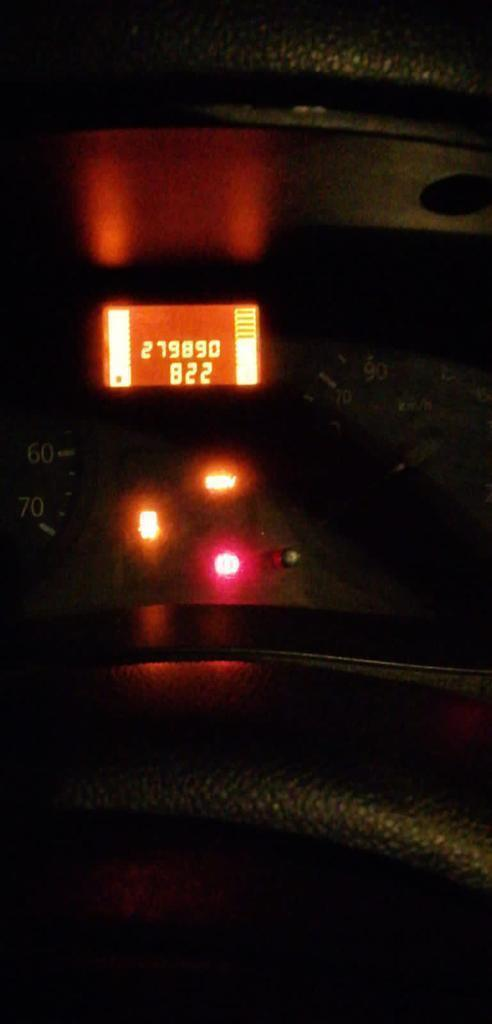0: (208, 338, 220, 359)
2: (184, 361, 198, 384), (200, 361, 212, 384), (140, 339, 153, 359)
7: (156, 340, 166, 358)
8: (169, 361, 183, 384), (181, 340, 193, 358)
9: (167, 338, 179, 358), (195, 338, 206, 357)
odometer: (96, 294, 275, 402)
